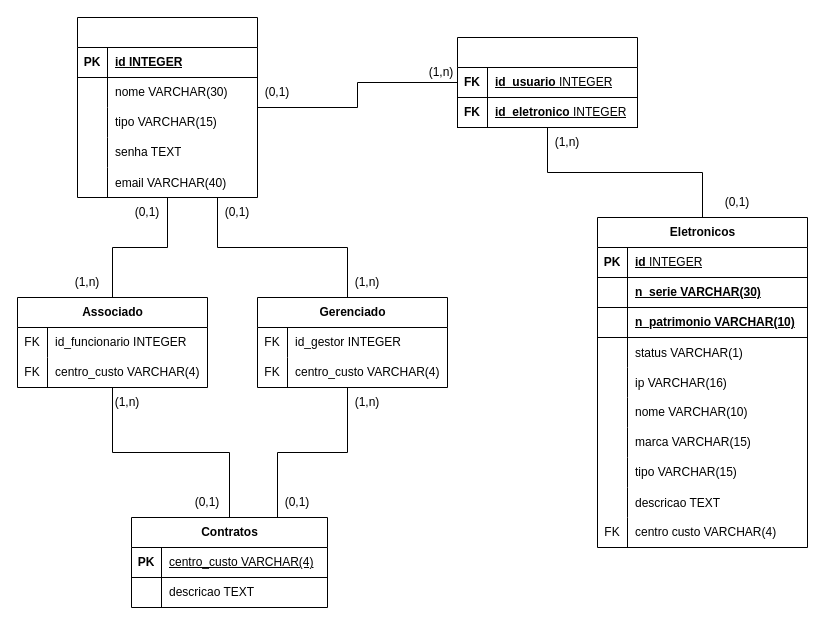
The diagram is 825 pixels wide and 625 high, and some of its shapes have lost their labels. The shapes that lost their labels are listed below. From the top down, each one's box as (x1, y1, x2, y2) in pixels, then its label:
(456, 36, 638, 128): Pertence
(76, 16, 258, 198): Usuario
